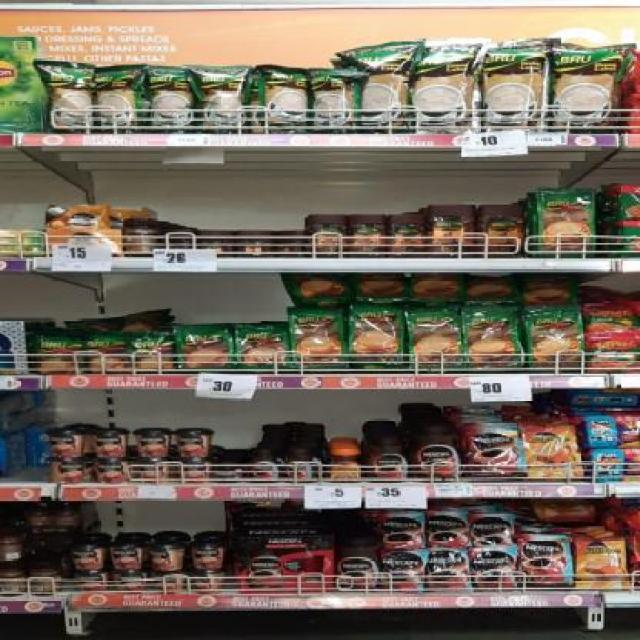Coffee: (465, 427, 527, 483), (410, 423, 461, 482), (525, 428, 582, 480), (575, 538, 629, 590), (518, 535, 572, 585), (334, 539, 380, 591), (423, 549, 469, 590), (369, 436, 409, 482), (471, 549, 515, 588), (380, 552, 422, 591), (426, 512, 468, 546), (382, 515, 420, 548), (472, 514, 510, 546), (328, 449, 361, 483), (247, 452, 280, 483), (282, 452, 314, 483), (212, 465, 244, 483)
